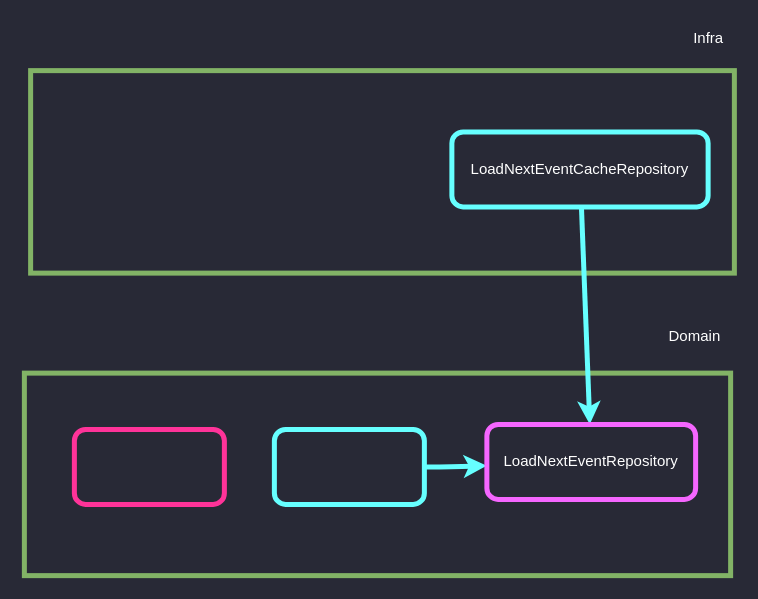
The diagram is 758 pixels wide and 599 high, and some of its shapes have lost their labels. The shapes that lost their labels are listed below. From the top down, each one's centre as x and y in pixels, then its label:
the point at 148,466: NextEventPlayer
the point at 348,466: NextEventLoader
